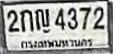2: (92, 6, 104, 29), (7, 10, 18, 32)
3: (67, 7, 77, 29)
4: (54, 7, 64, 29)
7: (79, 6, 90, 29)
A01: (19, 8, 33, 31)
A13: (34, 8, 50, 30)
